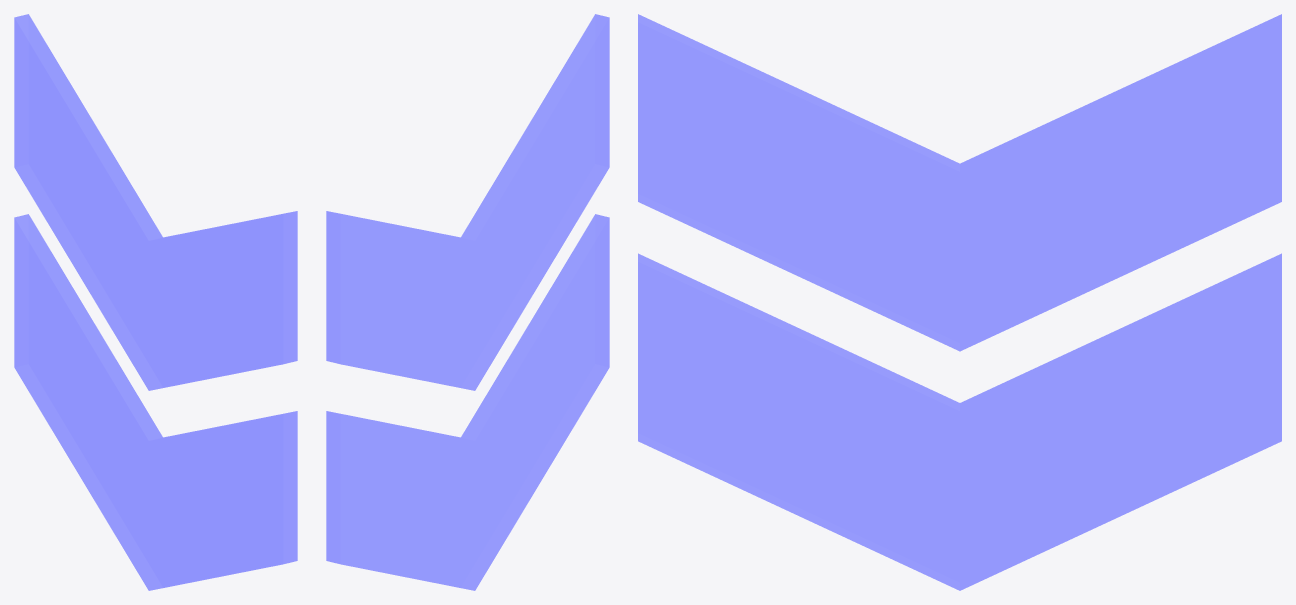
The model's file is Arrow.glb.
The picture shows the model from 3 angles, left to right: view 1: azimuth 30°, elevation 25°; view 2: azimuth 150°, elevation 25°; view 3: azimuth 270°, elevation 25°; orthographic projection. The views are drawn at different scales.
Visible parts, largest first — view 1: Cube.063; view 2: Cube.063; view 3: Cube.063.
Part boxes in pixels (x1,y1,x2,y2): Cube.063: (14,14,297,590); Cube.063: (326,14,609,590); Cube.063: (638,14,1281,590).
Size of the model in its own units: 0.006 by 0.19 by 0.195.
